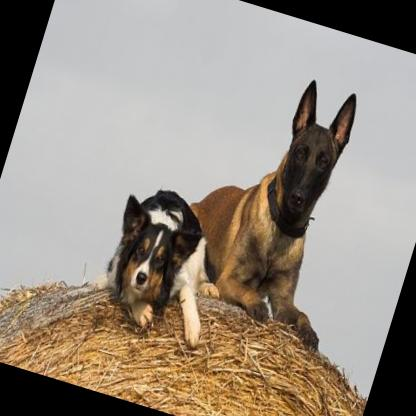malinois: (155, 48, 397, 352), (87, 173, 233, 344)
